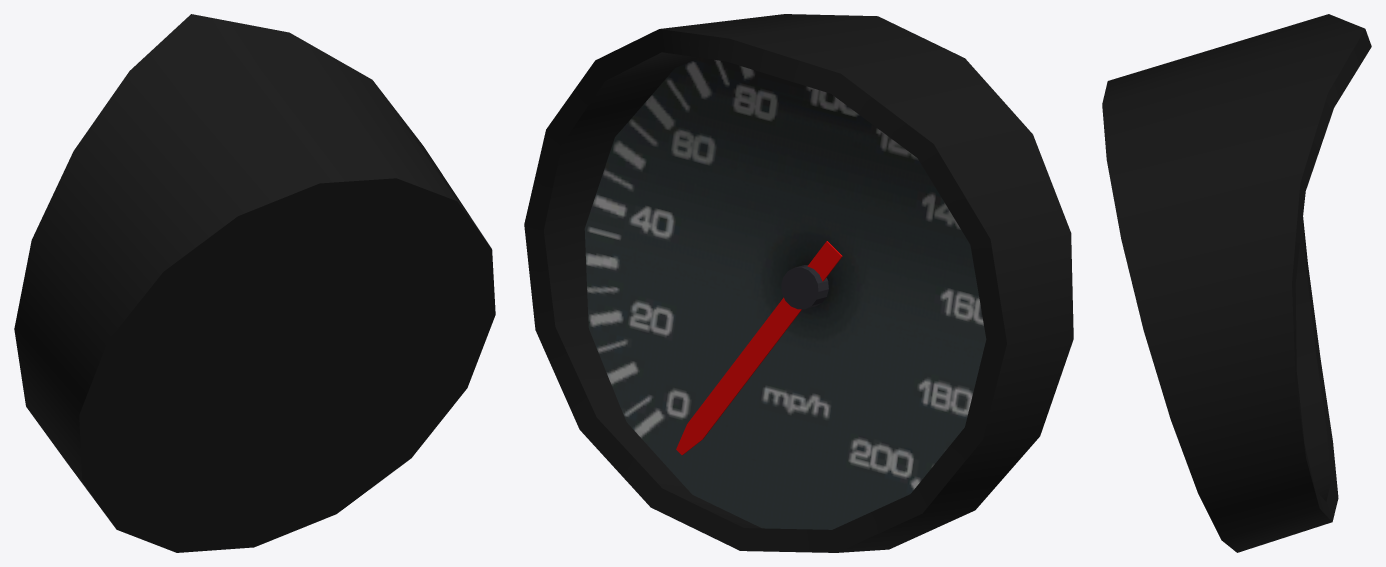
Rendered from right_fix.fbx.
The picture shows the model from 3 angles, left to right: view 1: azimuth 30°, elevation 25°; view 2: azimuth 150°, elevation 25°; view 3: azimuth 270°, elevation 25°; orthographic projection. The views are drawn at different scales.
Visible parts, largest first — view 1: Circle.002; view 2: Circle.007, Circle.002, Circle.010; view 3: Circle.002.
Part boxes in pixels (x1,y1,x2,y2): Circle.002: [14, 14, 495, 552]; Circle.007: [584, 57, 986, 529]; Circle.002: [524, 14, 1073, 552]; Circle.010: [676, 241, 842, 455]; Circle.002: [1102, 14, 1371, 552].
Size of the model in its own units: 9.33 by 10.31 by 5.05.
